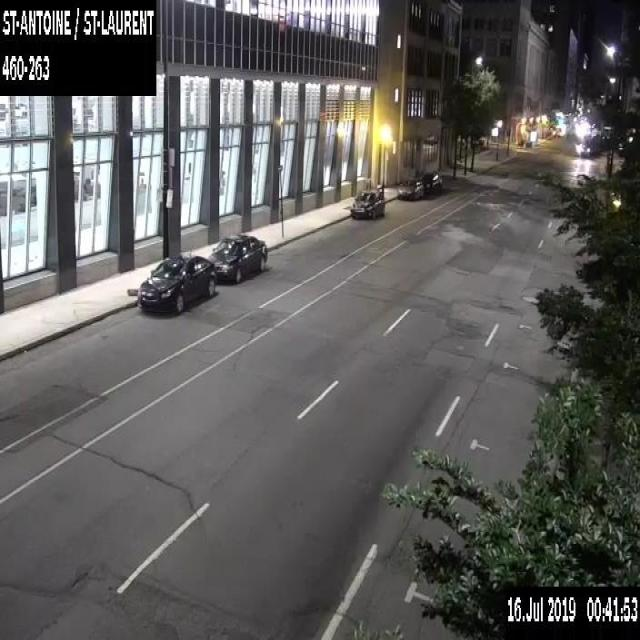vehicle: (136, 253, 216, 316), (207, 233, 267, 282), (350, 188, 384, 218), (396, 176, 424, 199), (420, 172, 442, 192), (576, 142, 590, 156)
